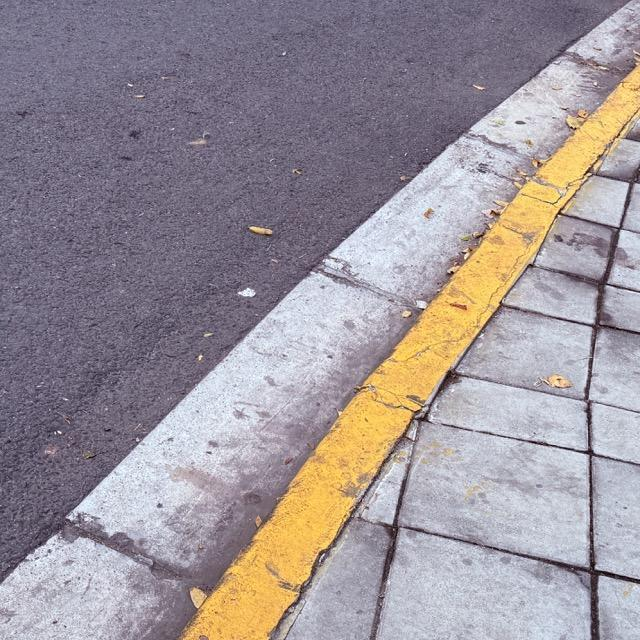curb: (180, 65, 639, 639)
